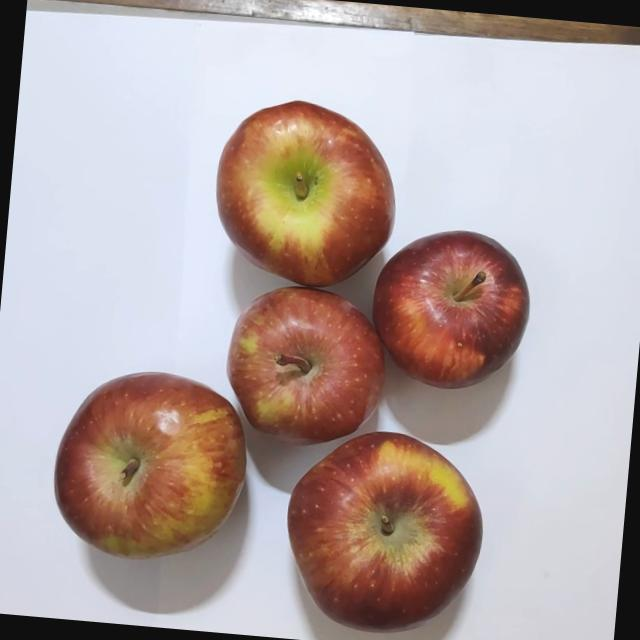apple: (268, 420, 491, 640), (36, 360, 260, 574), (203, 90, 405, 298), (212, 278, 394, 456), (362, 222, 538, 400)
